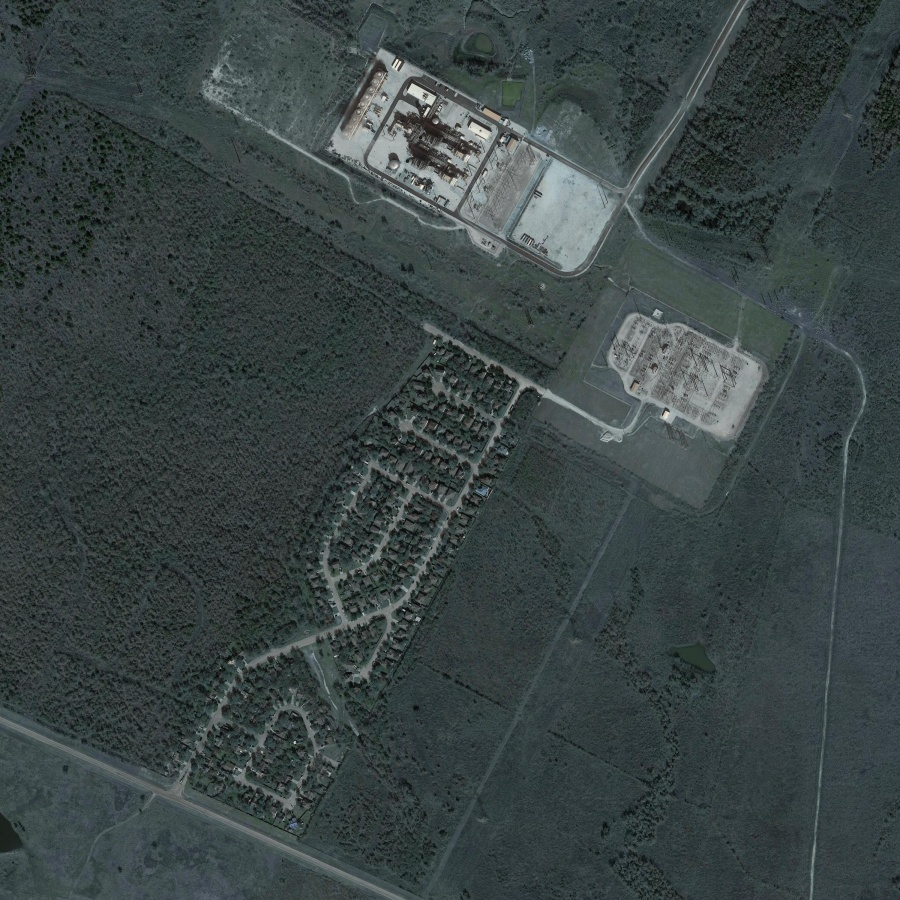PowerPlant: (331, 51, 541, 241), (605, 297, 752, 434)
